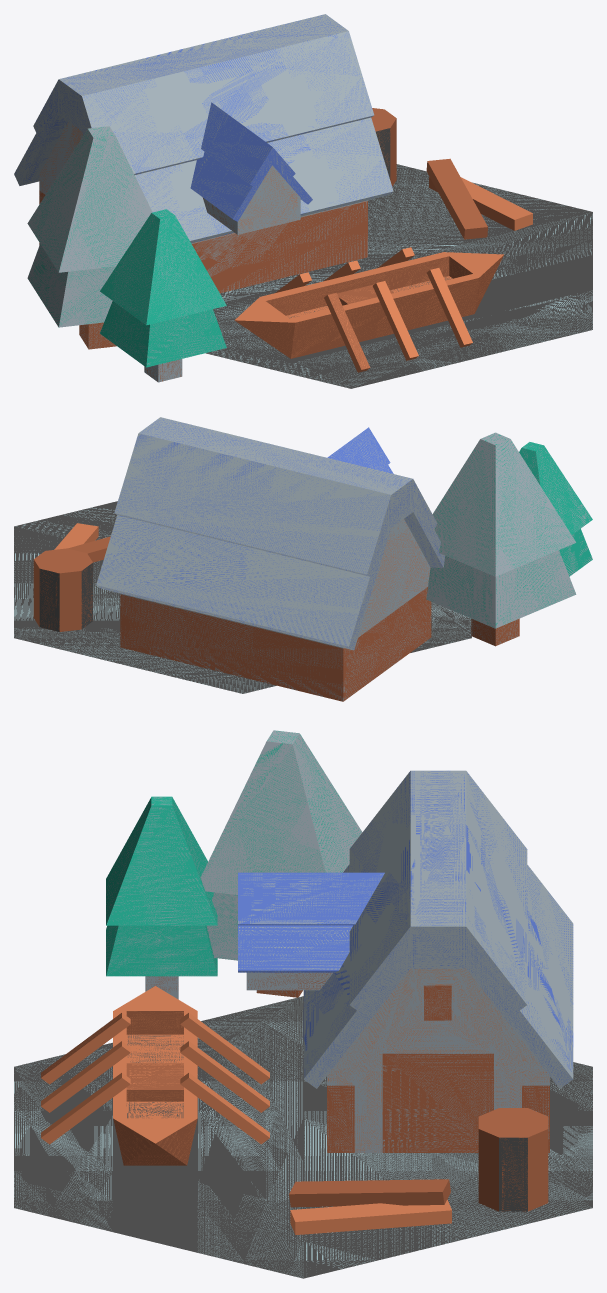
Rendered from Shipyard.fbx.
3 renders of one model, top to bottom at view 1: azimuth 30°, elevation 25°; view 2: azimuth 150°, elevation 25°; view 3: azimuth 270°, elevation 25°, orthographic. The views are drawn at different scales.
Visible parts, largest first — view 1: Group6, Group1, skpA404_1, Group2, Group3, Group7, Group8, Group4, Group10; view 2: Group6, Group2, Group1, Group10, Group3, Group7, Group4, Group8; view 3: Group6, Group1, skpA404_1, Group2, Group3, Group7, Group10, Group8, Group4.
Boxes of the visible parts, x1,y1,x2,y2 form: Group6: [14, 14, 393, 293]; Group1: [206, 164, 592, 388]; skpA404_1: [234, 247, 504, 372]; Group2: [27, 126, 152, 349]; Group3: [100, 209, 226, 382]; Group7: [190, 102, 312, 234]; Group8: [426, 158, 487, 239]; Group4: [429, 177, 532, 230]; Group10: [371, 108, 396, 186]; Group6: [96, 417, 445, 701]; Group2: [426, 432, 576, 646]; Group1: [14, 501, 471, 693]; Group10: [33, 548, 92, 631]; Group3: [519, 442, 592, 576]; Group7: [327, 427, 393, 473]; Group4: [54, 523, 98, 549]; Group8: [68, 536, 110, 562]; Group6: [303, 770, 573, 1152]; Group1: [14, 996, 592, 1278]; skpA404_1: [41, 986, 269, 1165]; Group2: [200, 730, 362, 997]; Group3: [106, 796, 217, 999]; Group7: [238, 872, 384, 990]; Group10: [478, 1108, 548, 1211]; Group8: [289, 1179, 450, 1207]; Group4: [290, 1199, 451, 1234].
Size of the model in its own units: 1.08 by 0.38 by 0.8.
